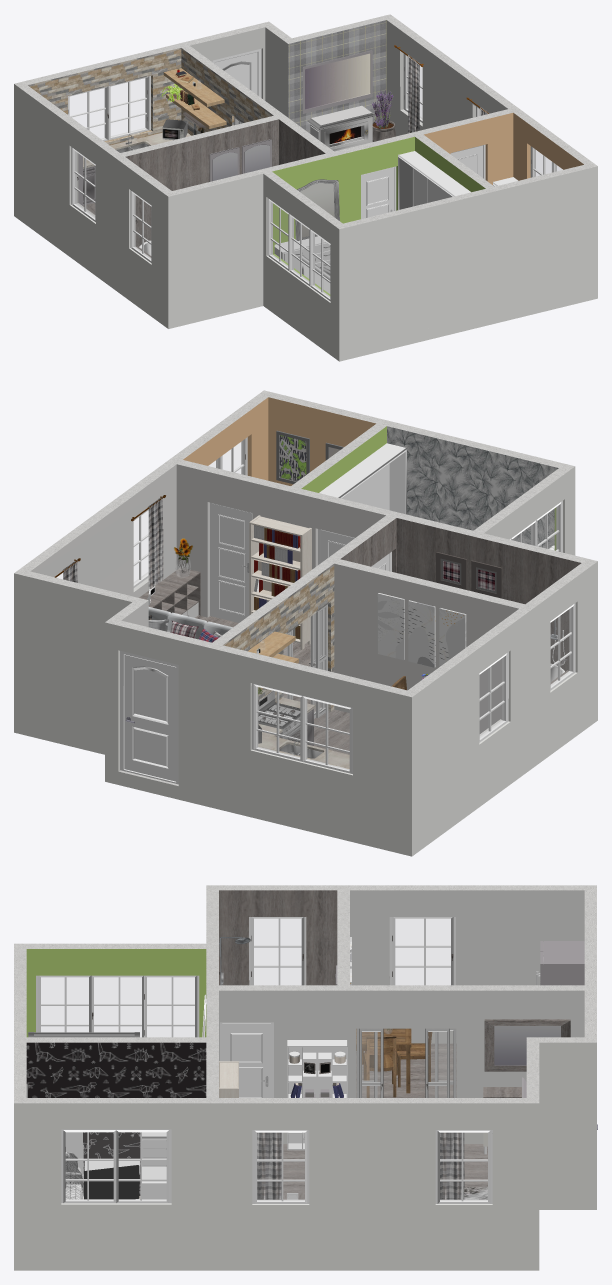
Rendered from About.glb.
3 renders of one model, top to bottom at view 1: azimuth 30°, elevation 25°; view 2: azimuth 150°, elevation 25°; view 3: azimuth 270°, elevation 25°, orthographic. The views are drawn at different scales.
Parts seen in each view (by area): view 1: Object_18, Object_56, Object_36, Object_64, Object_57, Object_3, Object_27, Object_104, Object_84, Object_65, Object_98, Object_46 (+8 smaller); view 2: Object_18, Object_64, Object_56, Object_36, Object_14, Object_57, Object_27, Object_84, Object_13, Object_3, Object_23, Object_26 (+15 smaller); view 3: Object_18, Object_64, Object_57, Object_56, Object_36, Object_85, Object_27, Object_104, Object_26, Object_30, Object_15, Object_46 (+6 smaller).
Boxes of the visible parts, x1,y1,x2,y2 form: Object_18: [14, 84, 597, 361]; Object_56: [68, 48, 556, 301]; Object_36: [14, 14, 597, 229]; Object_64: [77, 20, 507, 216]; Object_57: [70, 57, 562, 296]; Object_3: [28, 48, 273, 145]; Object_27: [125, 119, 325, 257]; Object_104: [272, 136, 485, 295]; Object_84: [424, 112, 583, 184]; Object_65: [288, 20, 386, 133]; Object_98: [305, 53, 370, 109]; Object_46: [78, 50, 372, 205]; Object_18: [14, 466, 597, 856]; Object_64: [30, 464, 518, 735]; Object_56: [63, 437, 575, 784]; Object_36: [14, 390, 597, 697]; Object_14: [387, 426, 558, 548]; Object_57: [57, 441, 570, 769]; Object_27: [340, 518, 581, 684]; Object_84: [183, 397, 375, 485]; Object_13: [377, 593, 466, 667]; Object_3: [223, 564, 349, 768]; Object_23: [249, 515, 311, 649]; Object_26: [197, 616, 349, 754]; Object_18: [14, 1042, 596, 1270]; Object_64: [219, 890, 584, 1143]; Object_57: [41, 919, 487, 1200]; Object_56: [28, 917, 492, 1203]; Object_36: [14, 885, 596, 1103]; Object_85: [26, 1042, 206, 1195]; Object_27: [219, 890, 337, 985]; Object_104: [26, 949, 206, 1037]; Object_26: [283, 1043, 487, 1192]; Object_30: [257, 1132, 464, 1199]; Object_15: [356, 1028, 432, 1097]; Object_46: [304, 941, 584, 1097].
Bounding box in the file's own units: 8.29 × 2.95 × 9.33.
99 materials, 79 textured.
